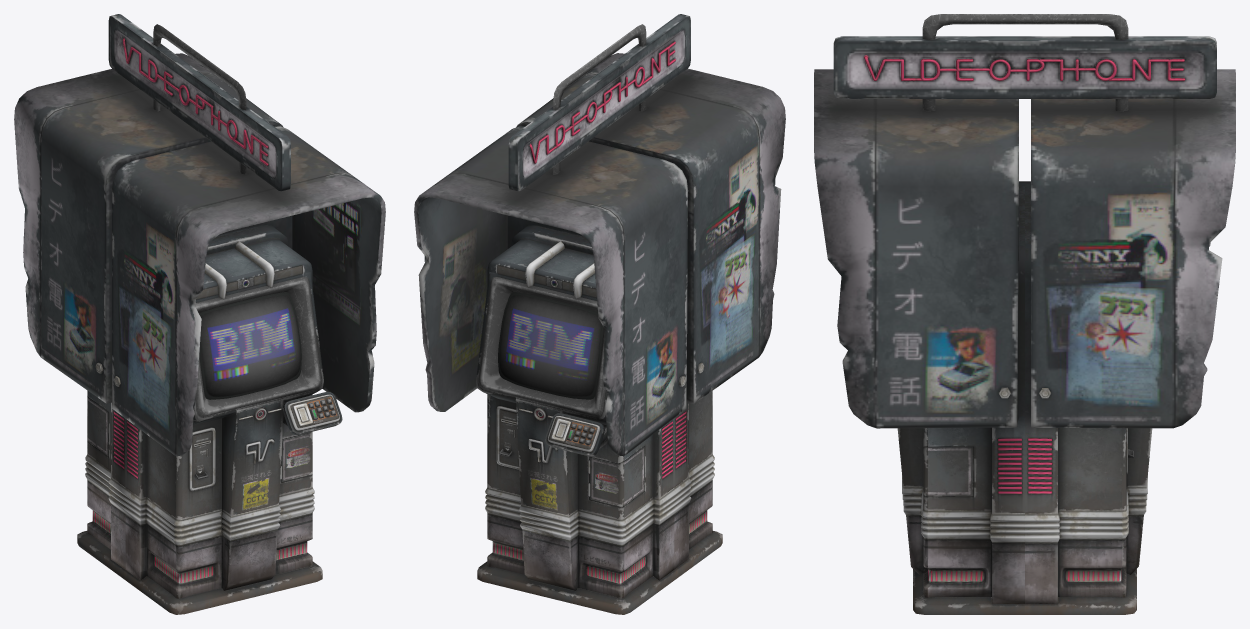
Rendered from videophone.glb.
The picture shows the model from 3 angles, left to right: view 1: azimuth 30°, elevation 25°; view 2: azimuth 150°, elevation 25°; view 3: azimuth 270°, elevation 25°; orthographic projection. The views are drawn at different scales.
Parts seen in each view (by area): view 1: Object001; view 2: Object001; view 3: Object001.
Boxes of the visible parts, x1=… form: Object001: x1=14, y1=14, x2=385, y2=614; Object001: x1=414, y1=14, x2=785, y2=614; Object001: x1=814, y1=14, x2=1235, y2=614.
Size of the model in its own units: 0.7652 by 2 by 1.37.
1 material, 1 textured.
